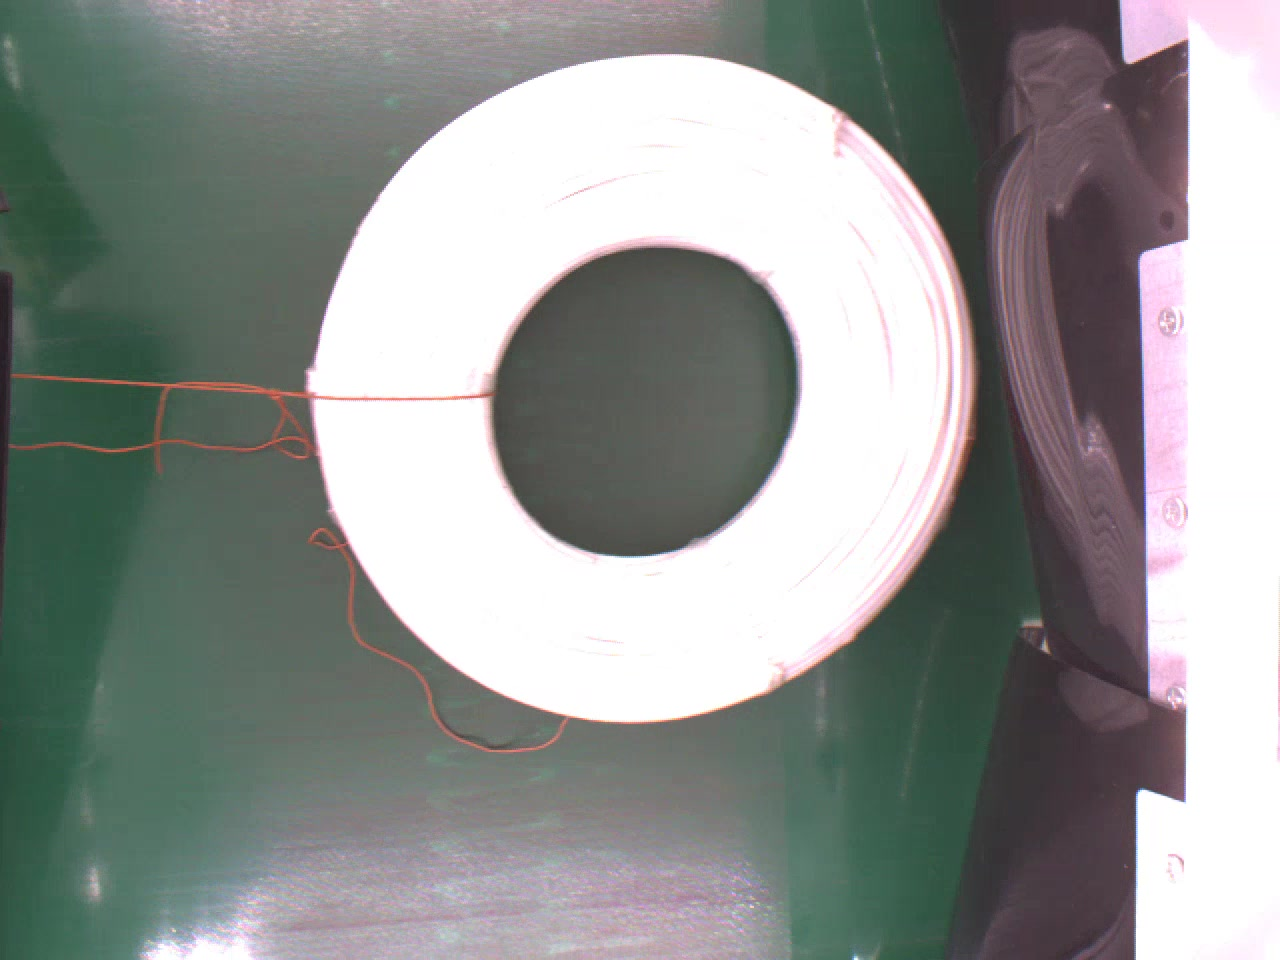white: (308, 52, 990, 716)
